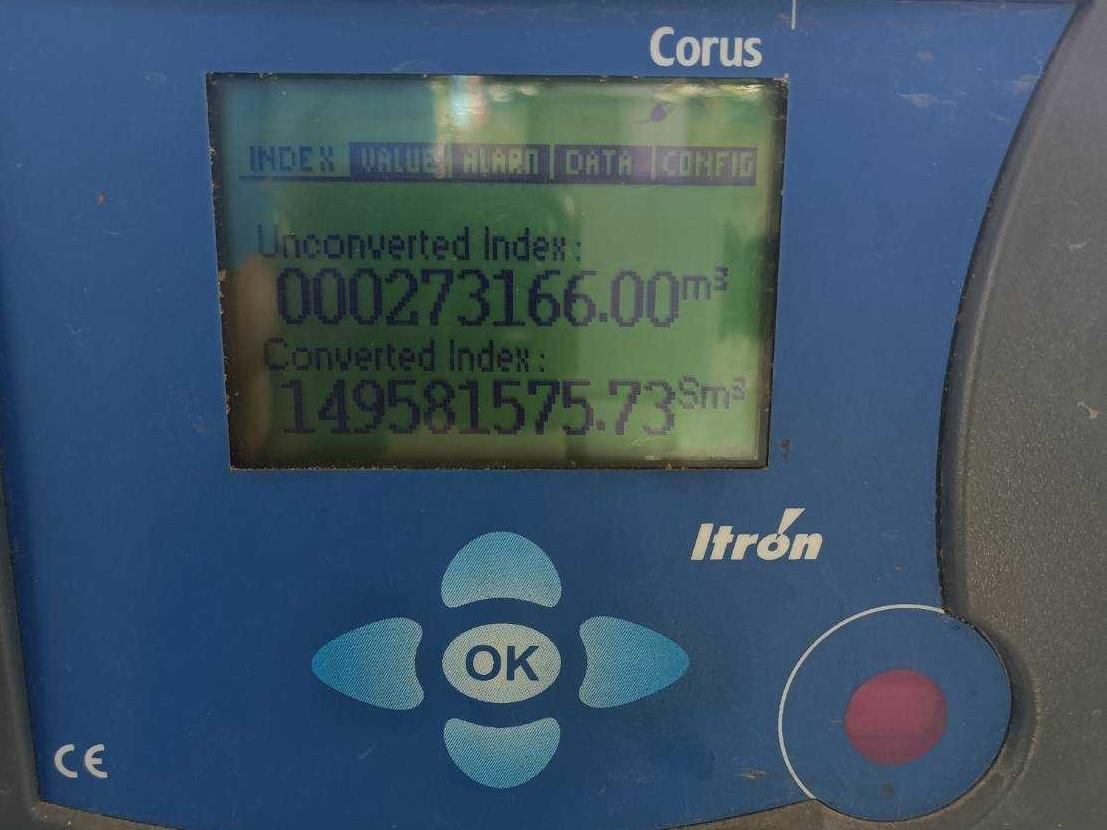digital_screen: (206, 73, 787, 470)
